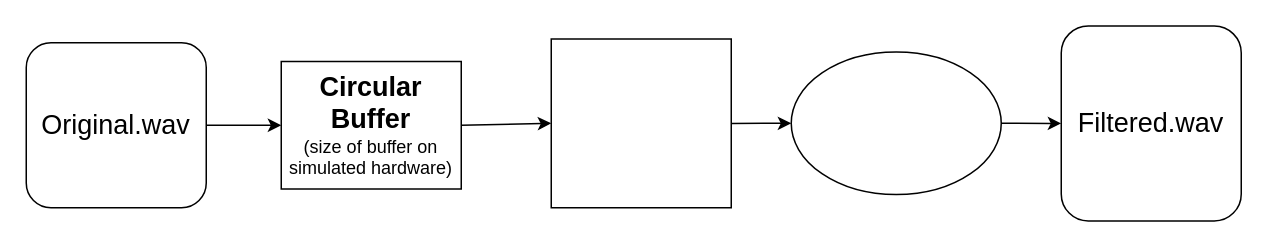
Some shapes in this 1268 by 248 pixel diagram are drawn without their labels. Here are the shapes that lost their labels. From the top down, the centre of each, then its label:
point 640,123: Processing Buffer (Large enough to hold 160 ms, or 5 delays, back)
point 895,123: Filtering Algorithms
